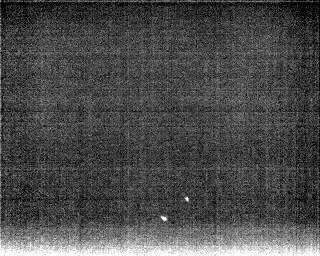BIRD: (159, 212, 170, 225)
